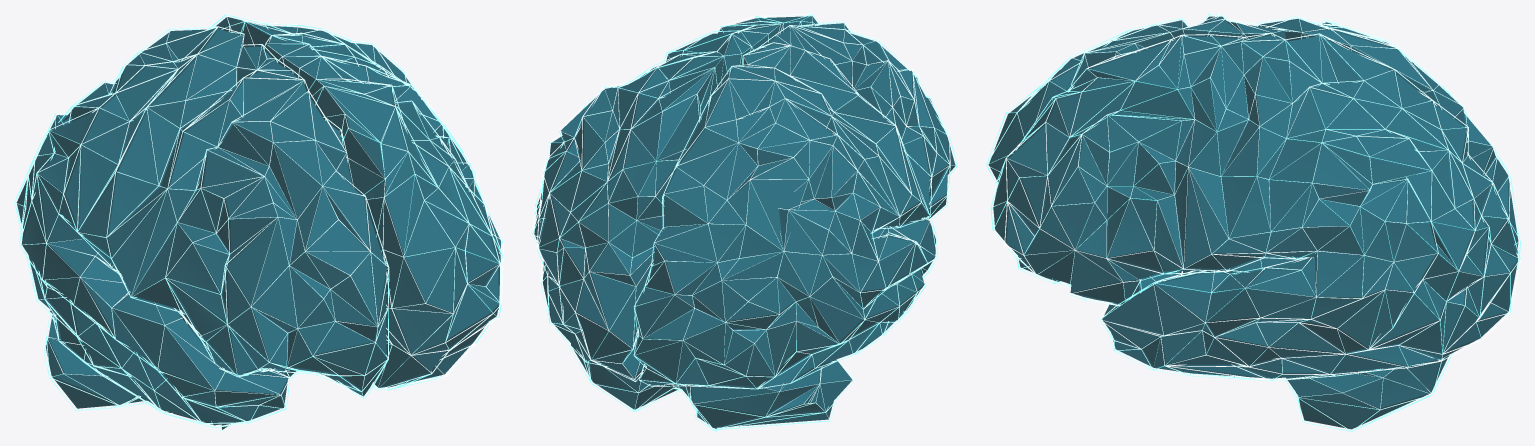
File: Brain_002.gltf
3 views of the same model, side by side, from view 1: azimuth 30°, elevation 25°; view 2: azimuth 150°, elevation 25°; view 3: azimuth 270°, elevation 25° (orthographic). The views are drawn at different scales.
Visible parts, largest first — view 1: Brain_Part_06.002_Mesh.001, Brain_Part_06.002_Mesh.011, Brain_Part_04.002_Mesh.009, Brain_Part_02.002_Mesh.007; view 2: Brain_Part_06.002_Mesh.001, Brain_Part_06.002_Mesh.011, Brain_Part_04.002_Mesh.009, Brain_Part_02.002_Mesh.007; view 3: Brain_Part_06.002_Mesh.001, Brain_Part_04.002_Mesh.009, Brain_Part_06.002_Mesh.011, Brain_Part_02.002_Mesh.007.
Boxes of the visible parts, left/top/right/bottom form: Brain_Part_06.002_Mesh.001: left=16, top=17, right=500, bottom=429; Brain_Part_06.002_Mesh.011: left=14, top=26, right=389, bottom=427; Brain_Part_04.002_Mesh.009: left=207, top=14, right=503, bottom=390; Brain_Part_02.002_Mesh.007: left=44, top=313, right=154, bottom=410; Brain_Part_06.002_Mesh.001: left=534, top=16, right=955, bottom=428; Brain_Part_06.002_Mesh.011: left=633, top=21, right=957, bottom=389; Brain_Part_04.002_Mesh.009: left=532, top=14, right=820, bottom=381; Brain_Part_02.002_Mesh.007: left=568, top=342, right=854, bottom=430; Brain_Part_06.002_Mesh.001: left=988, top=16, right=1518, bottom=429; Brain_Part_04.002_Mesh.009: left=990, top=33, right=1520, bottom=381; Brain_Part_06.002_Mesh.011: left=986, top=14, right=1520, bottom=271; Brain_Part_02.002_Mesh.007: left=1283, top=353, right=1452, bottom=431.
Size of the model in its own units: 4.71 by 4.8 by 5.97.
